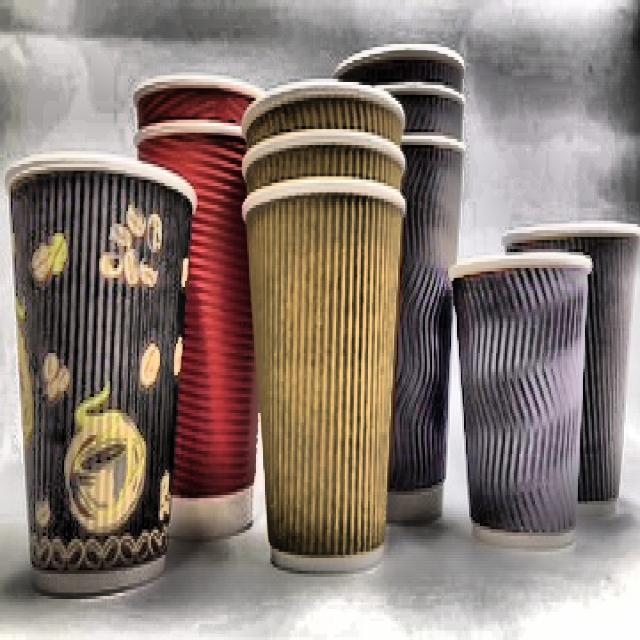Cup: (3, 150, 202, 606), (241, 85, 404, 584), (319, 41, 465, 534), (126, 64, 268, 544), (450, 249, 582, 552), (499, 221, 640, 504)
